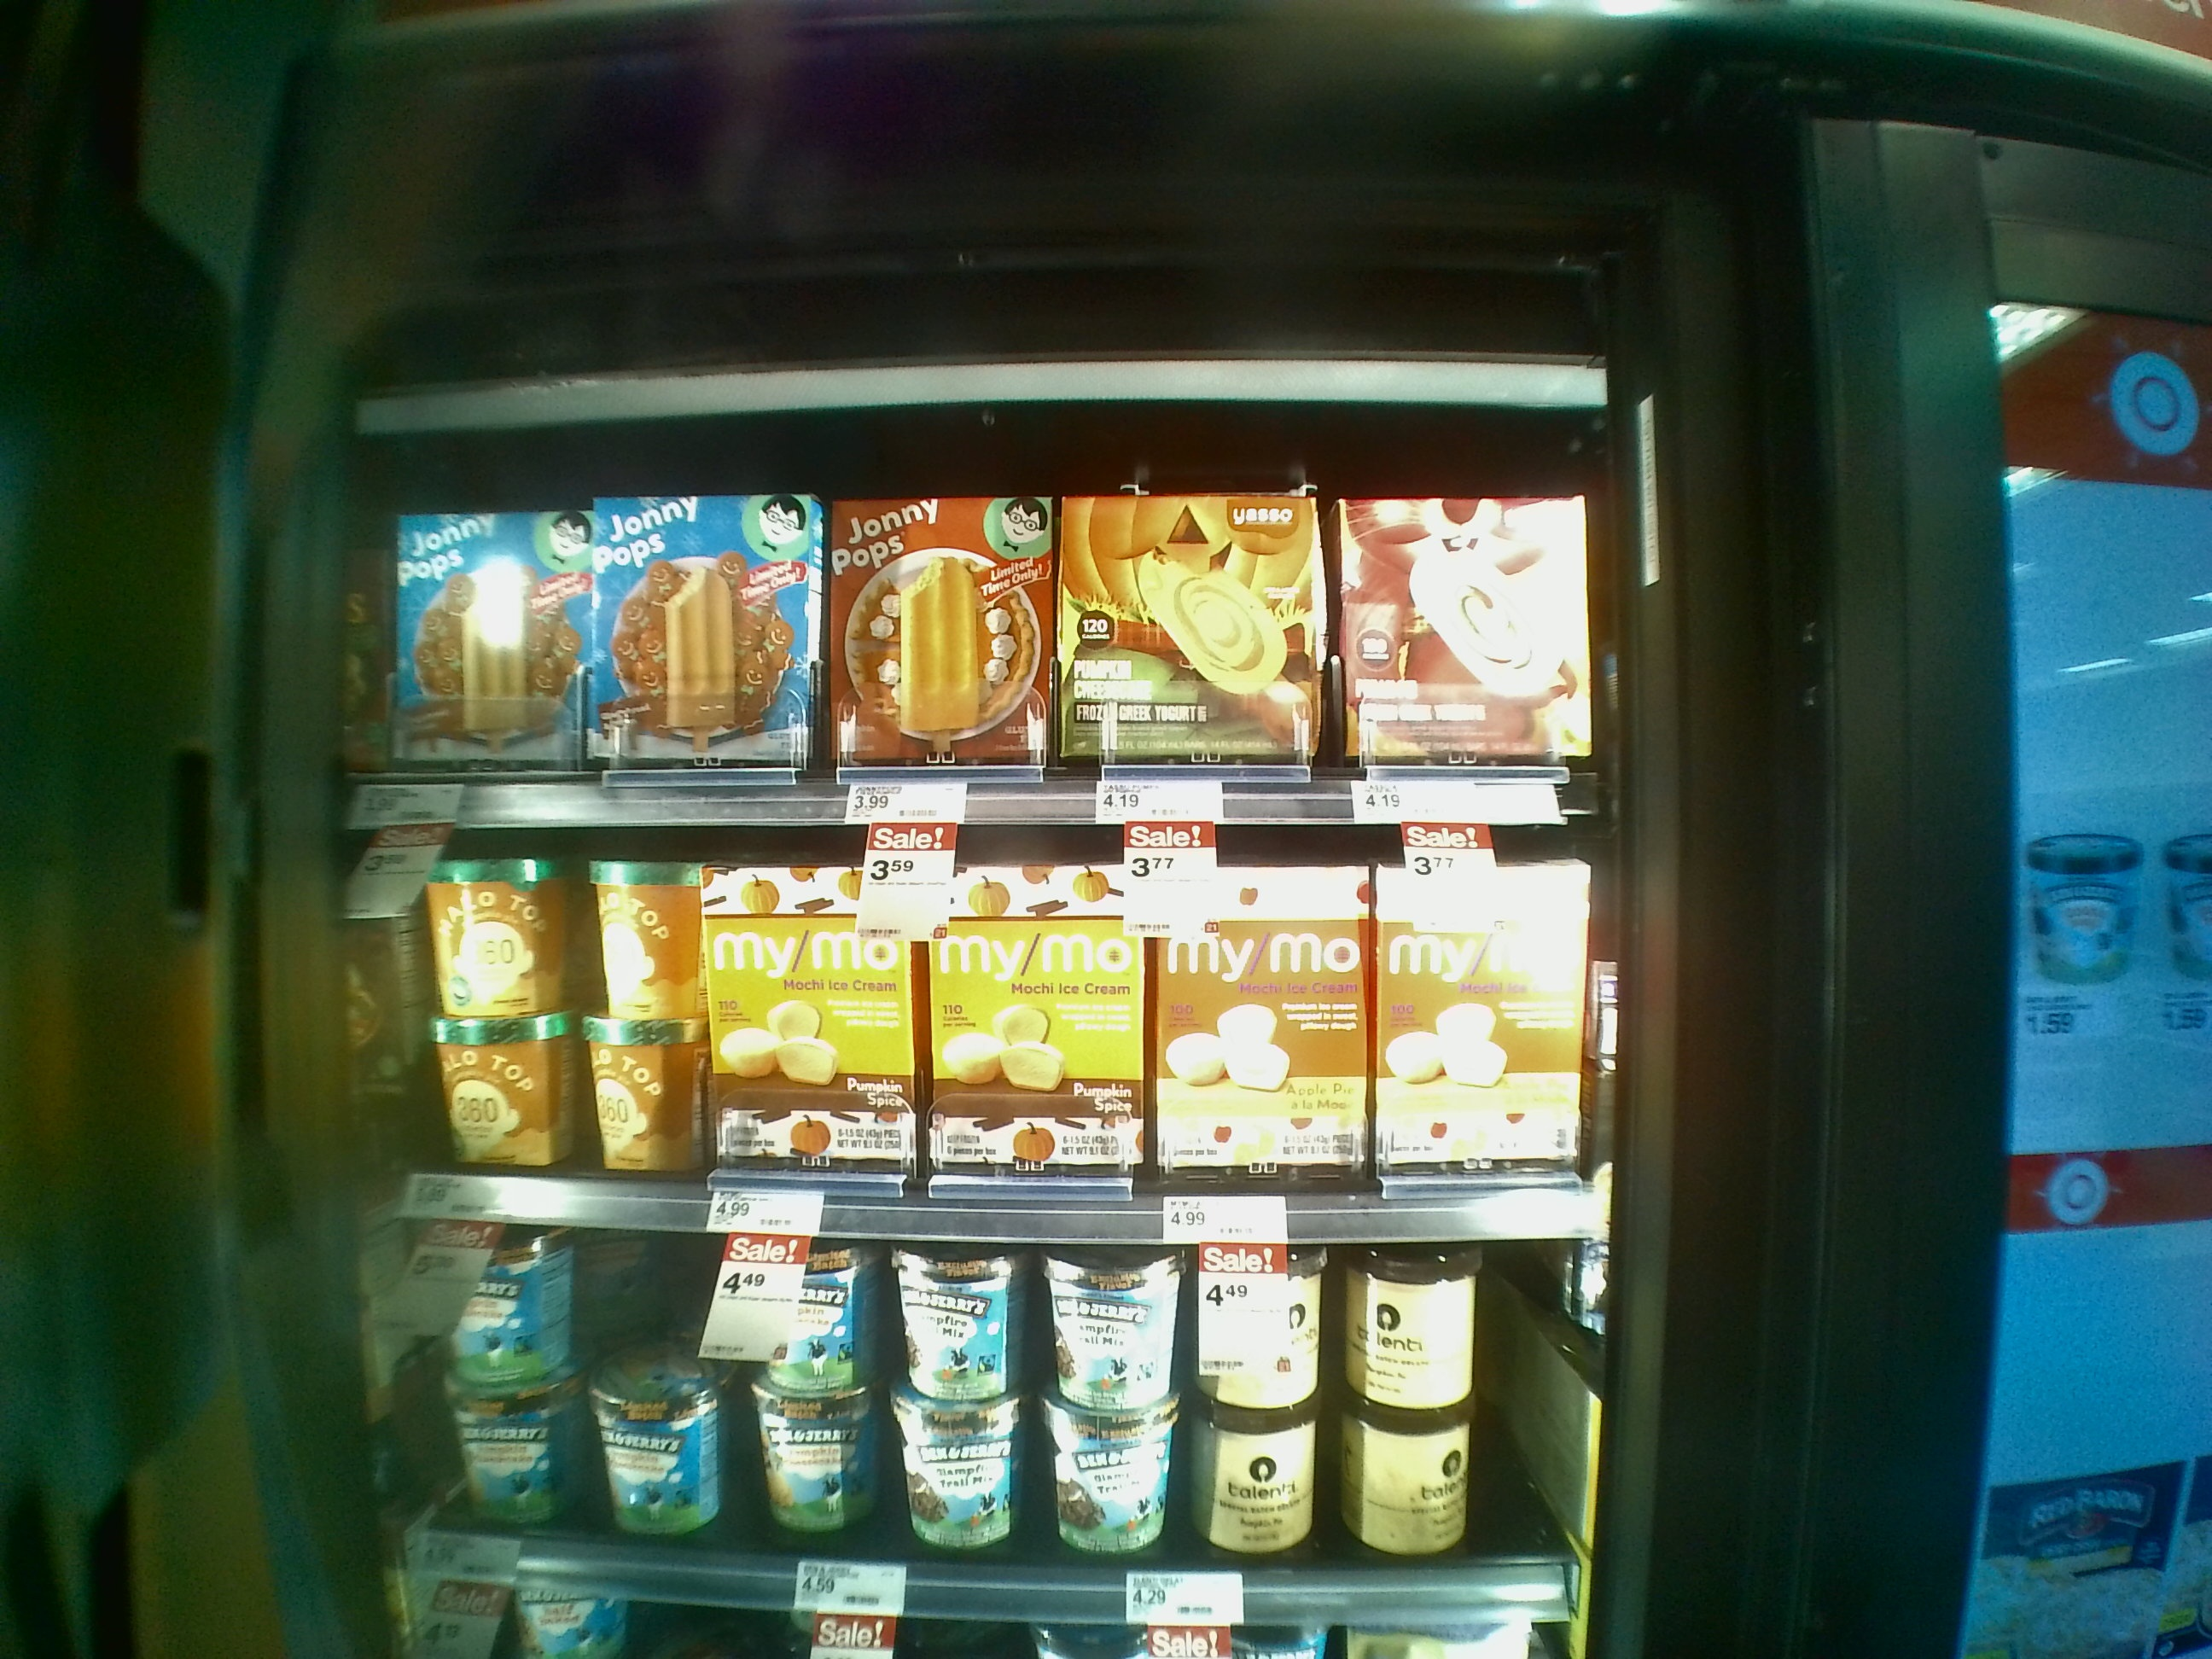shelf: (324, 796, 1608, 1246), (338, 375, 1588, 826), (347, 1180, 1588, 1626)
